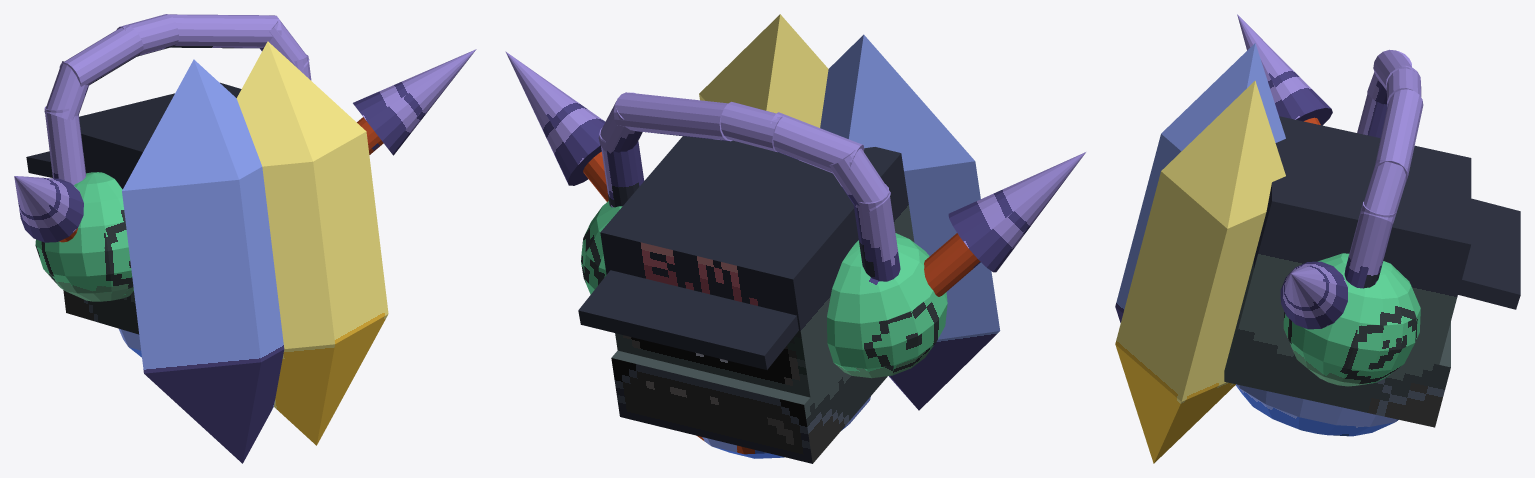
File: BlackMarketDealer.gltf
3 renders of one model, left to right at view 1: azimuth 30°, elevation 25°; view 2: azimuth 150°, elevation 25°; view 3: azimuth 270°, elevation 25°, orthographic. The views are drawn at different scales.
Parts seen in each view (by area): view 1: beveled_cuboid (×2), cylinder (×6), cone (×2), sphere, UpperHead, cube, cuboid; view 2: UpperHead, beveled_cuboid (×2), cylinder (×9), cube, sphere (×3), cuboid, cone (×2); view 3: beveled_cuboid (×2), UpperHead, sphere (×2), cube, cylinder (×7), cone (×2), cuboid.
Boxes of the visible parts, box(x1,y1,x2,y2) form: beveled_cuboid (×2): box(122, 41, 388, 463); cylinder (×6): box(44, 14, 309, 185); cone (×2): box(14, 49, 476, 242); sphere: box(35, 172, 133, 301); UpperHead: box(79, 82, 241, 189); cube: box(63, 290, 139, 334); cuboid: box(26, 151, 52, 177); UpperHead: box(600, 136, 914, 397); beveled_cuboid (×2): box(699, 14, 1000, 410); cylinder (×9): box(583, 92, 980, 296); cube: box(611, 350, 887, 463); sphere (×3): box(581, 201, 947, 458); cuboid: box(578, 270, 798, 369); cone (×2): box(505, 51, 1085, 272); beveled_cuboid (×2): box(1115, 43, 1285, 463); UpperHead: box(1240, 116, 1471, 364); sphere (×2): box(1236, 253, 1420, 436); cube: box(1224, 311, 1450, 427); cylinder (×7): box(1344, 49, 1423, 288); cone (×2): box(1237, 14, 1347, 329); cuboid: box(1458, 198, 1520, 309).
Bounding box in the file's own units: 1.07 × 0.7749 × 0.7423.
Materials: 1 (1 with a texture image).
